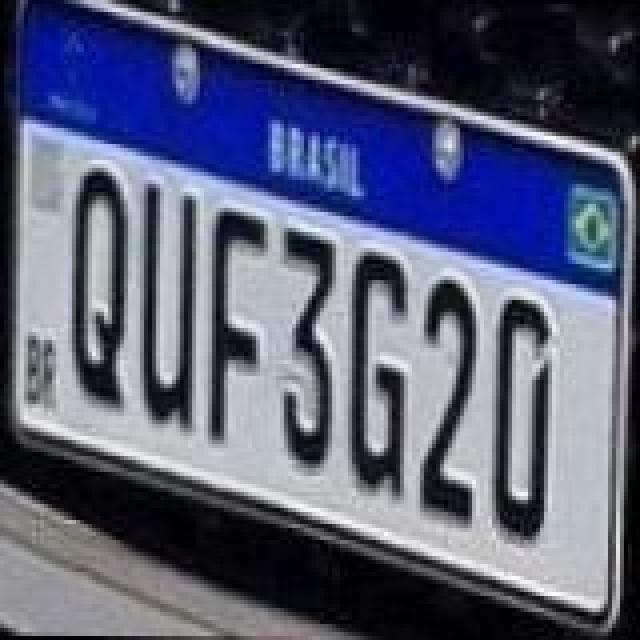2: (422, 278, 482, 526)
3: (280, 222, 340, 466)
D: (494, 296, 554, 544)
F: (208, 208, 268, 444)
G: (352, 250, 412, 498)
Q: (70, 170, 134, 414)
U: (140, 182, 200, 438)
